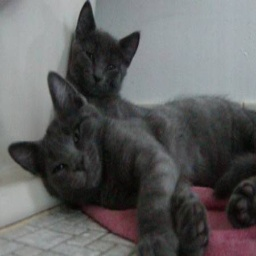cat: (12, 1, 256, 248)
